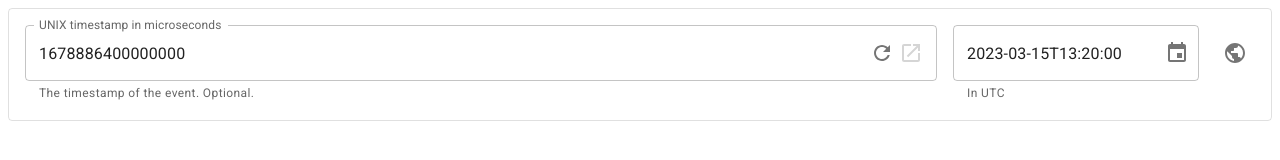
Test: TimestampPicker › shows validation error for negative timestamp
Replace the text in the field labelled "UNIX timestamp in microseconds" with "-100" at (445, 53), box left=25, top=25, right=865, bottom=81
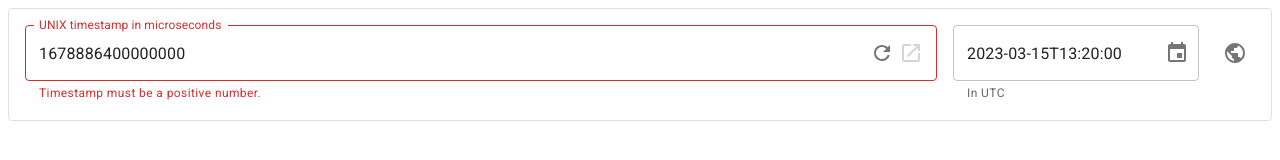
Expected: the text "Timestamp must be a positive number." is shown, left=39, top=86, right=261, bottom=100
